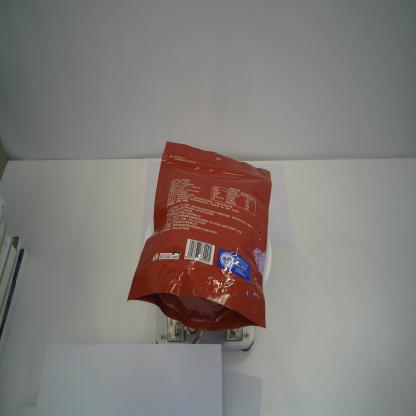Dried Food: (125, 140, 273, 332)
